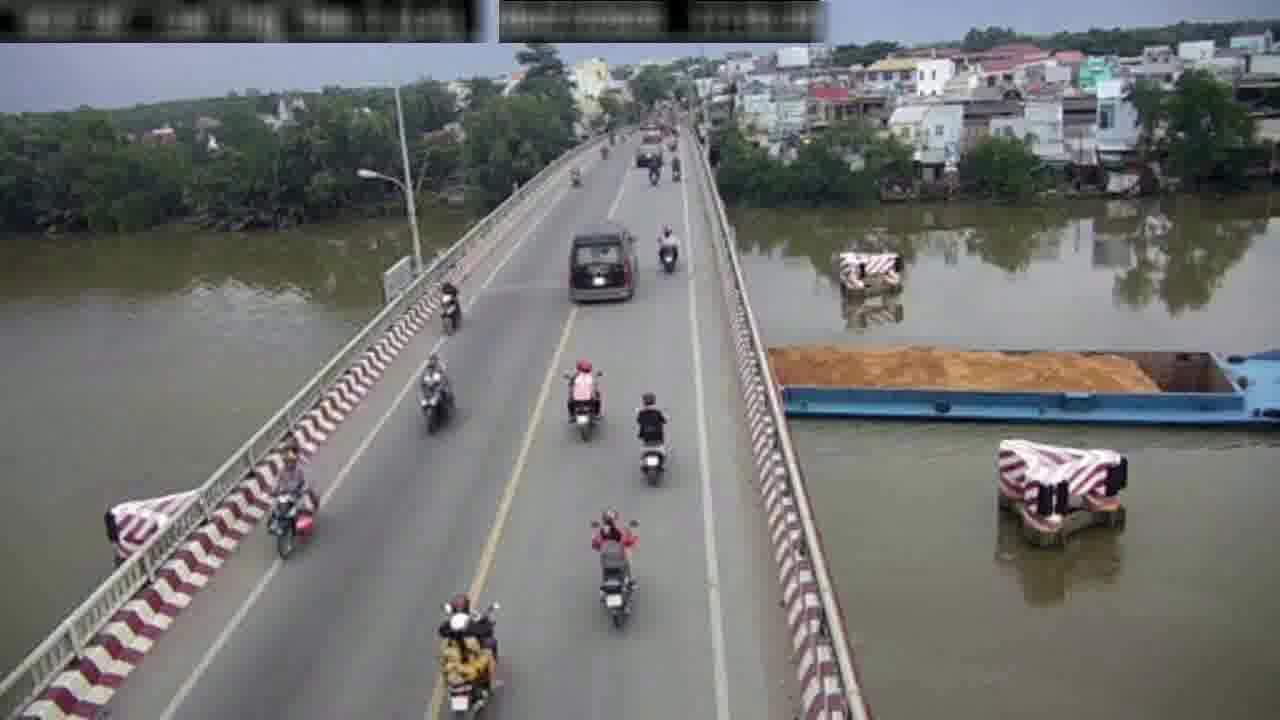car: (569, 220, 635, 307)
motorbike: (440, 588, 503, 717), (270, 449, 321, 564), (591, 506, 636, 634), (629, 383, 671, 486), (416, 348, 454, 441), (567, 351, 605, 443), (435, 277, 463, 335), (656, 219, 681, 275)
